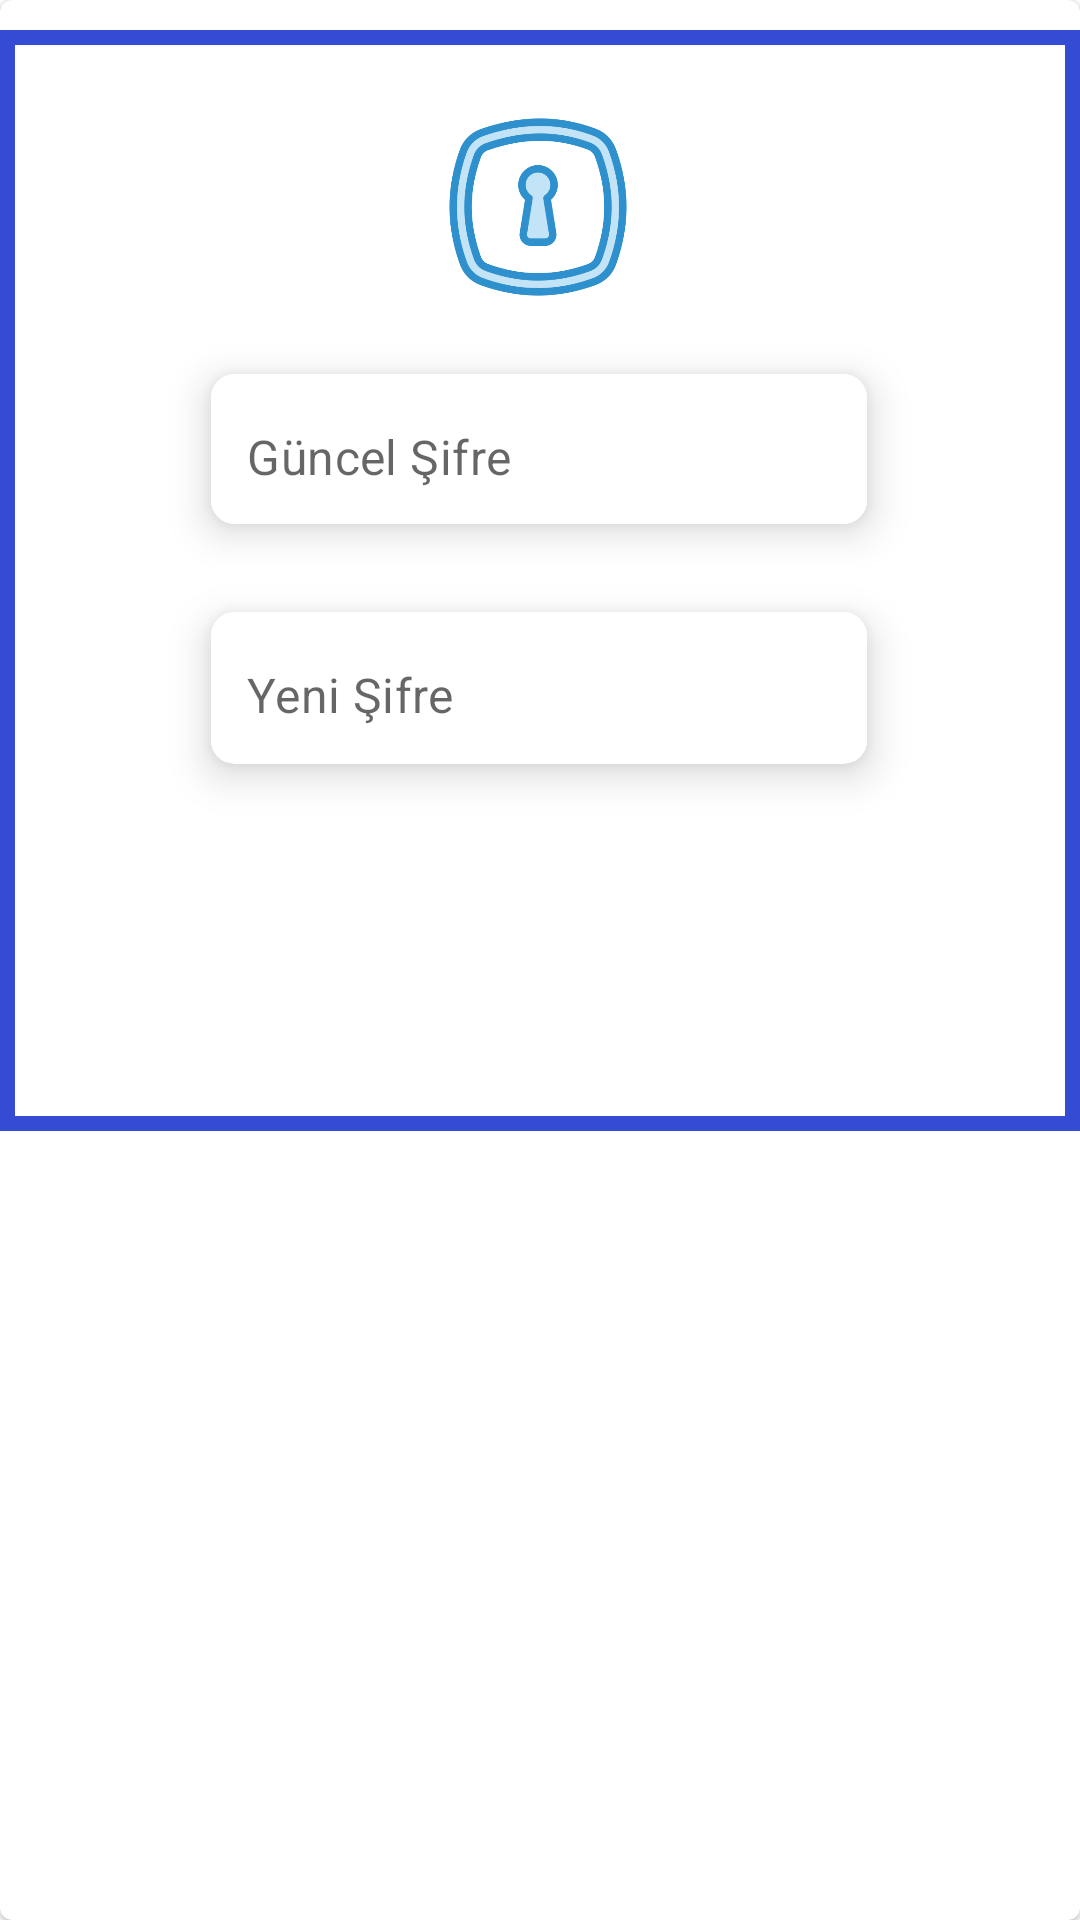

Screen size 1080px x 1920px. Icon name, then its box in pixels as region(x1, y1, x2, y2):
passwordblue: region(449, 118, 627, 296)
